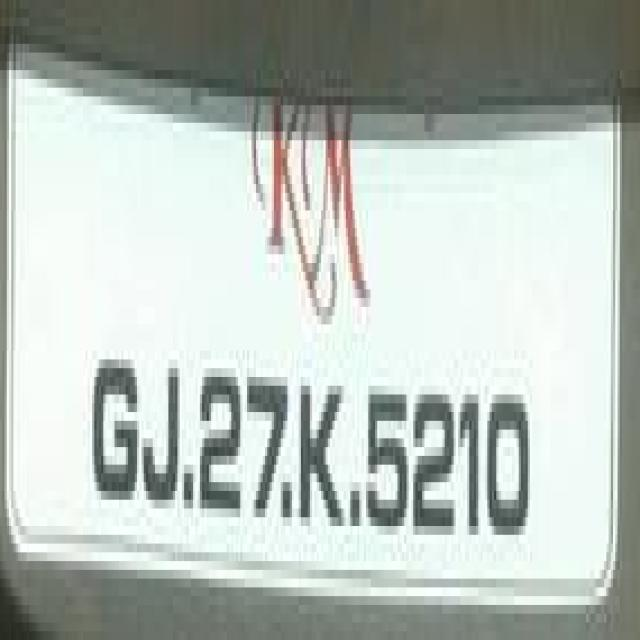license_plate: (11, 61, 609, 614)
